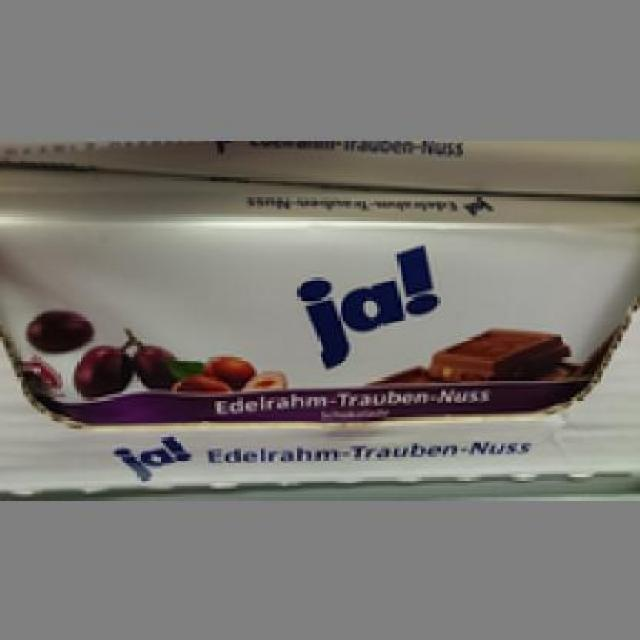Chocolate: (0, 186, 637, 426)
